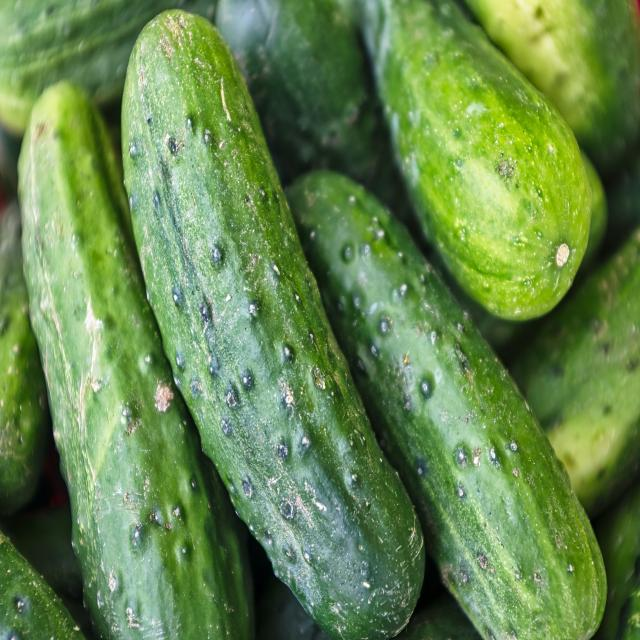Pickle: (122, 11, 424, 639), (286, 171, 606, 639), (19, 83, 252, 639), (361, 0, 591, 319), (512, 227, 640, 513), (215, 0, 382, 182)
